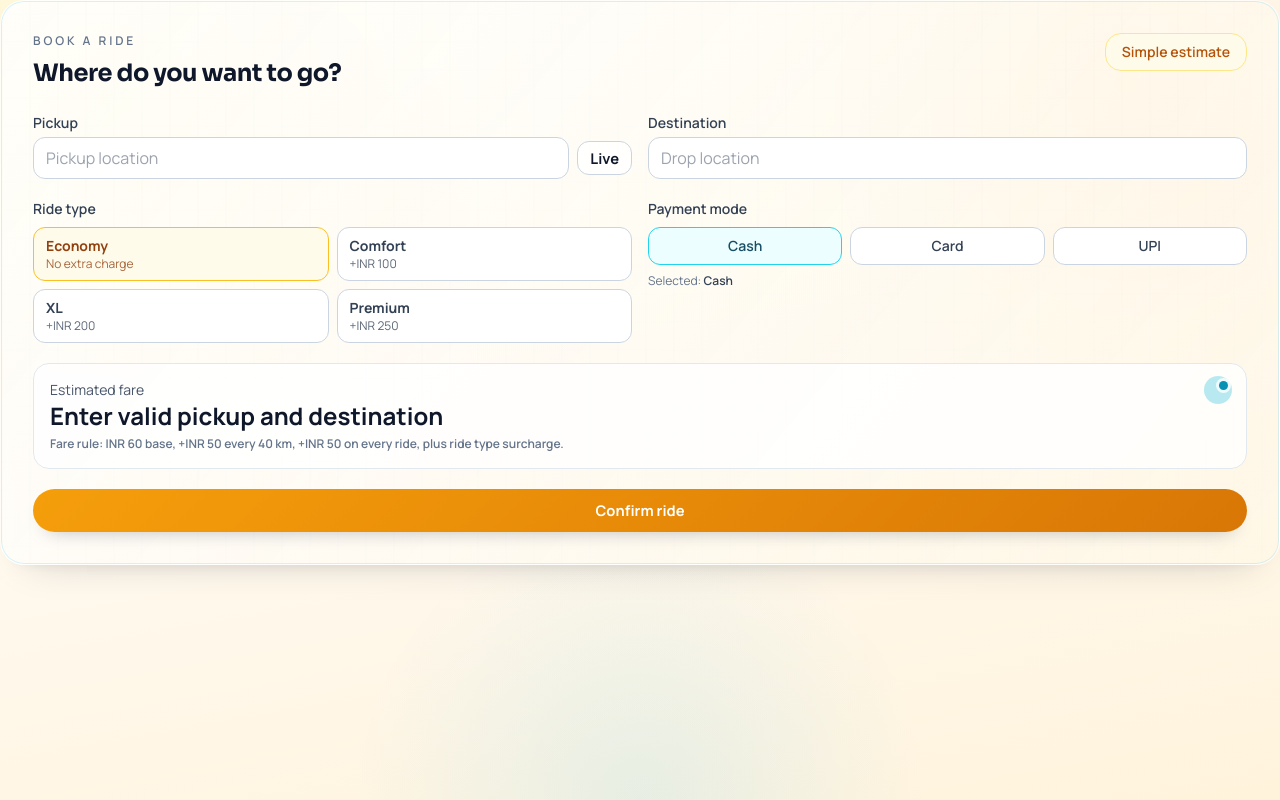
RideBookingForm › rejects invalid dummy upi ids
Type "Kondapur" into the field labelled "Pickup" at (301, 158), box [33,137,569,179]
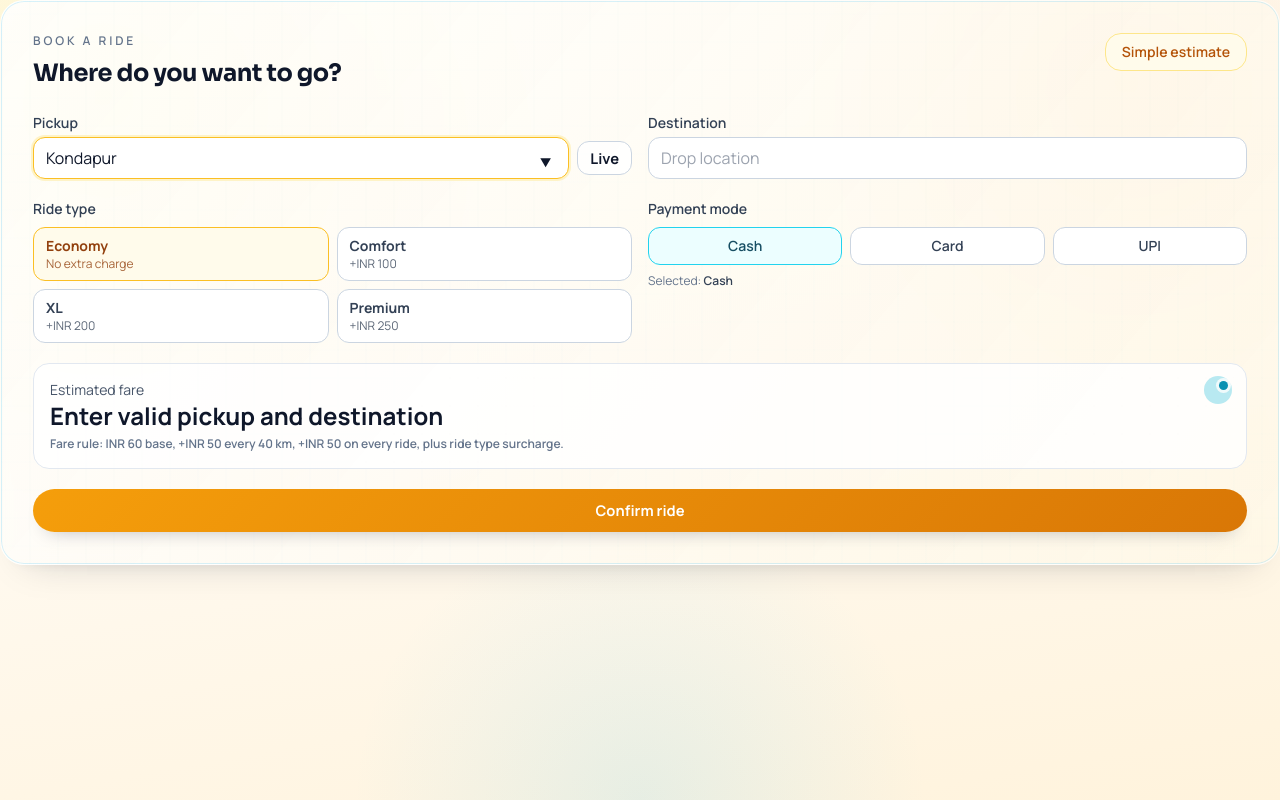
Type "Hitech City" into the field labelled "Destination" at (948, 158), box [648,137,1247,179]
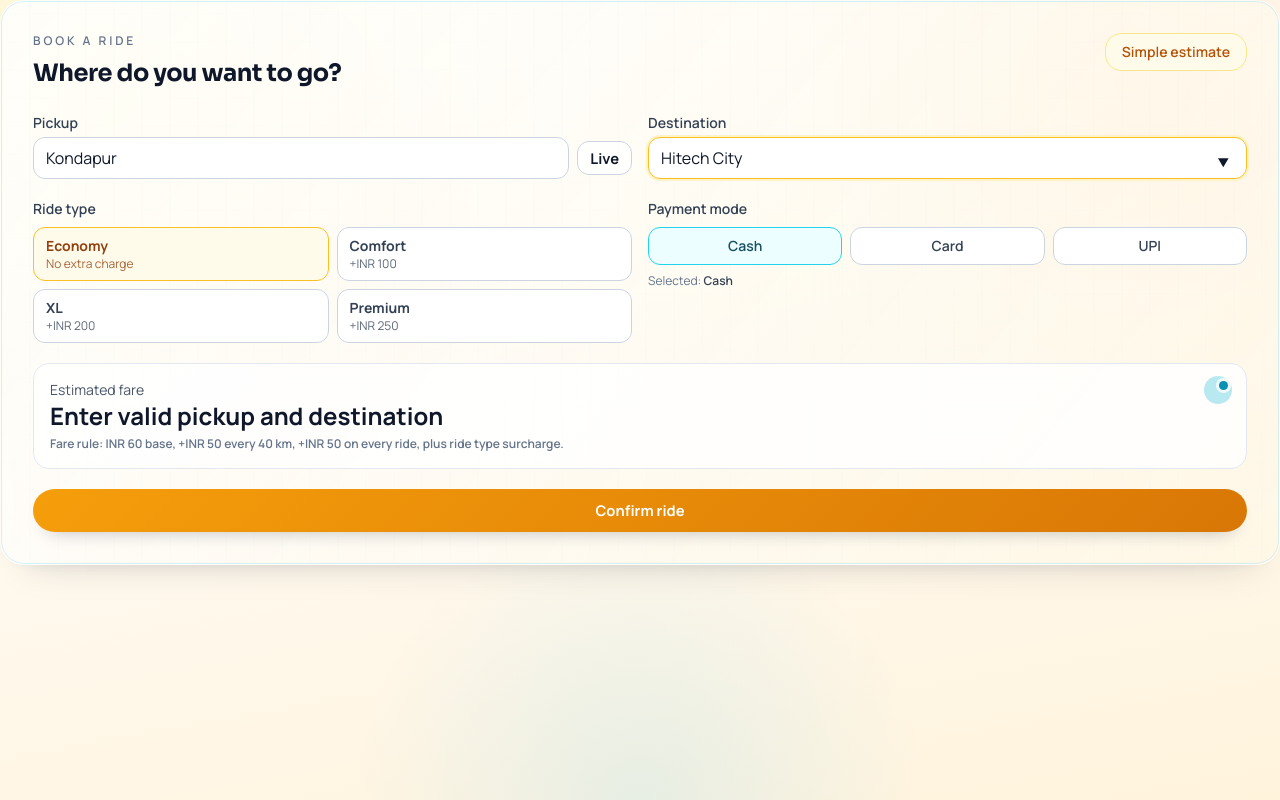
Expected: the button "Confirm ride" is enabled, [33,489,1247,532]
Click the button "UPI" at (1150, 246), box [1053,227,1247,265]
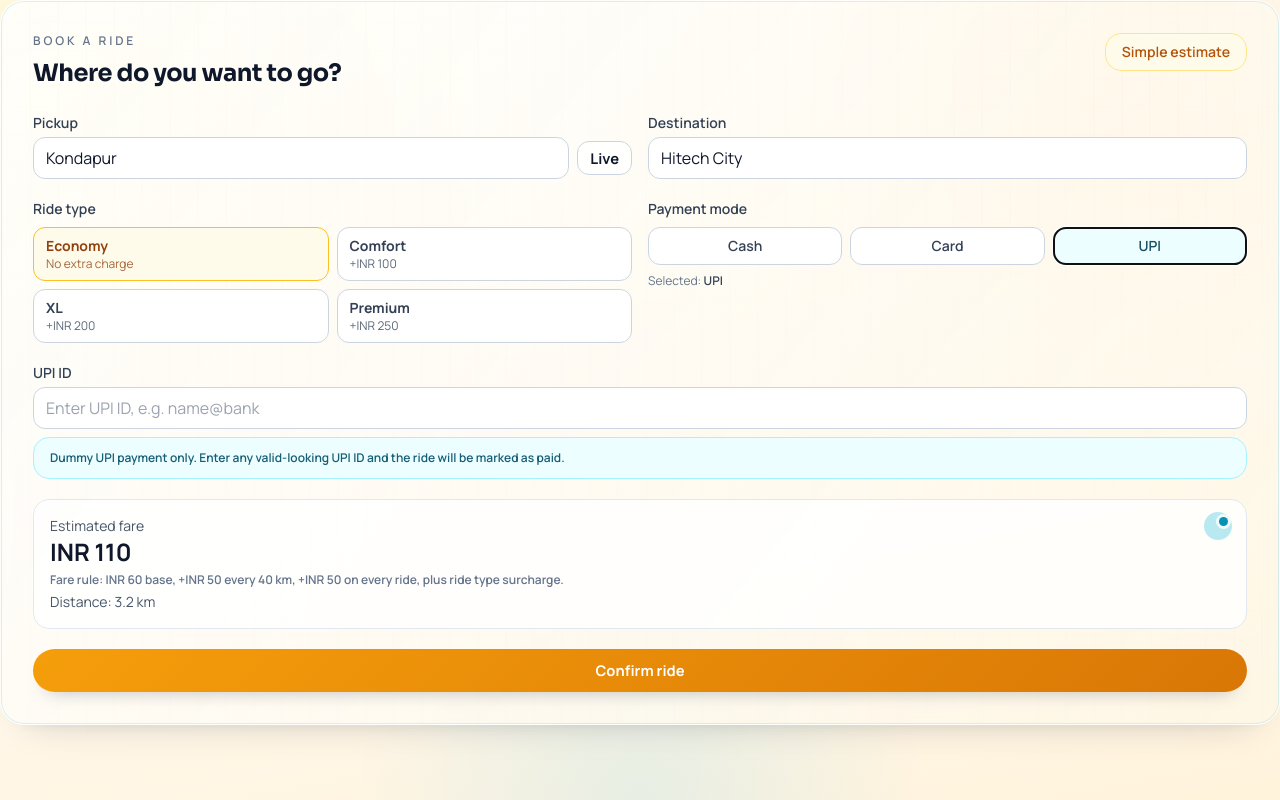
Type "invalid-upi" into the field labelled "UPI ID" at (640, 408), box [33,387,1247,429]
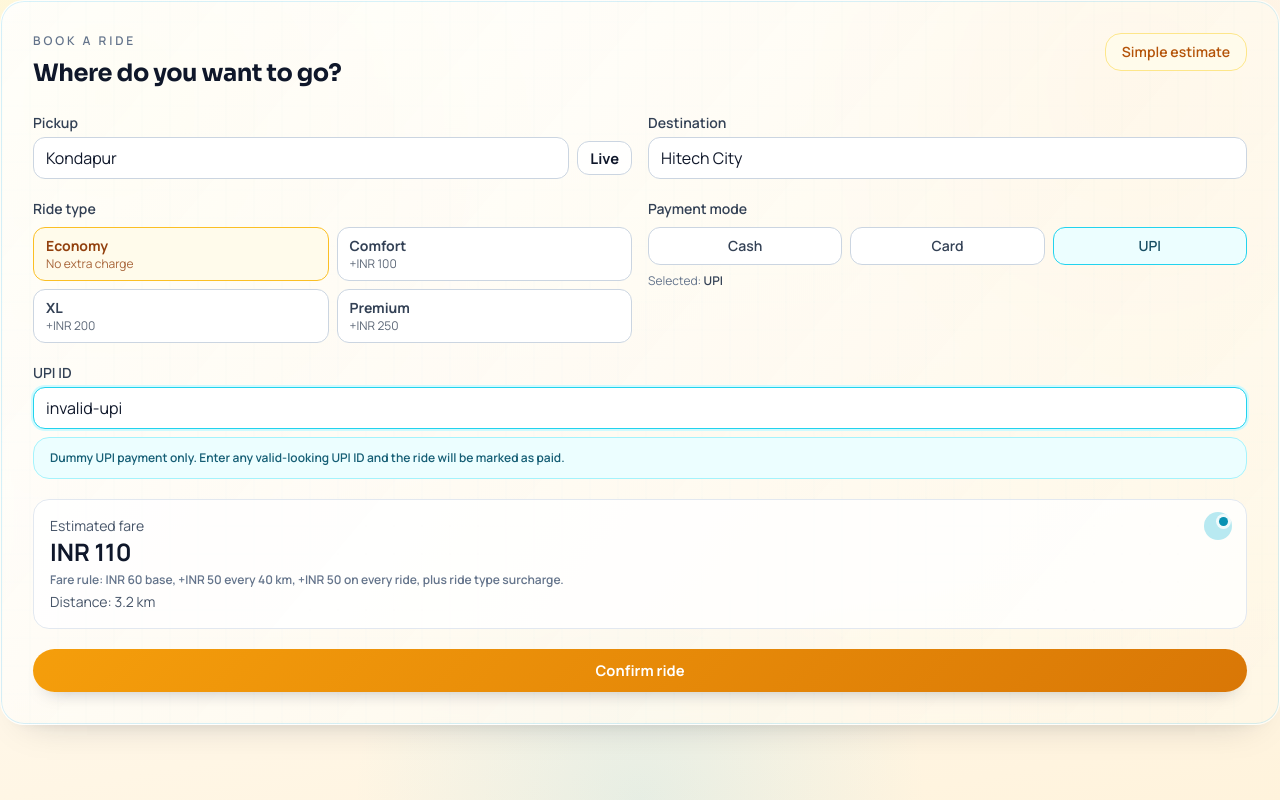
Click the button "Confirm ride" at (640, 670), box [33,649,1247,692]
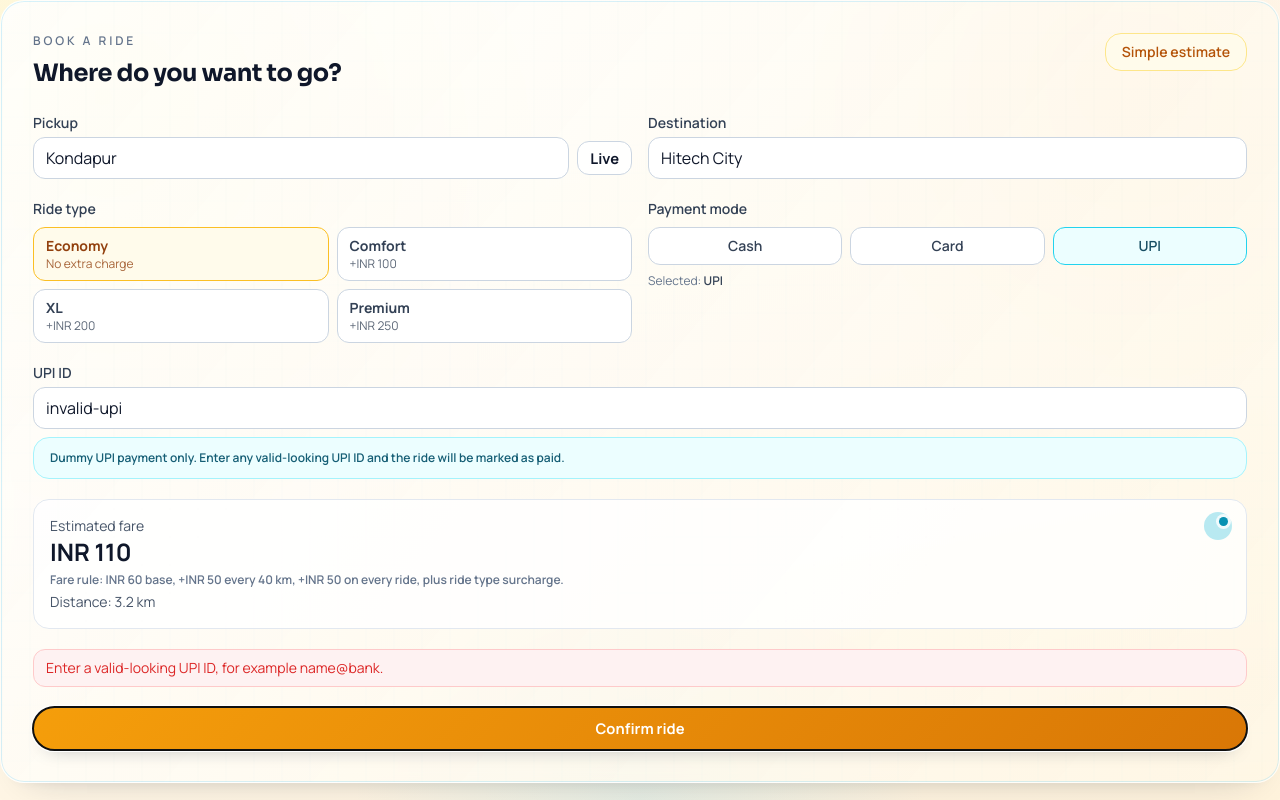
Expected: the text "Enter a valid-looking UPI ID, for example name@bank." is shown, [33,649,1247,687]
